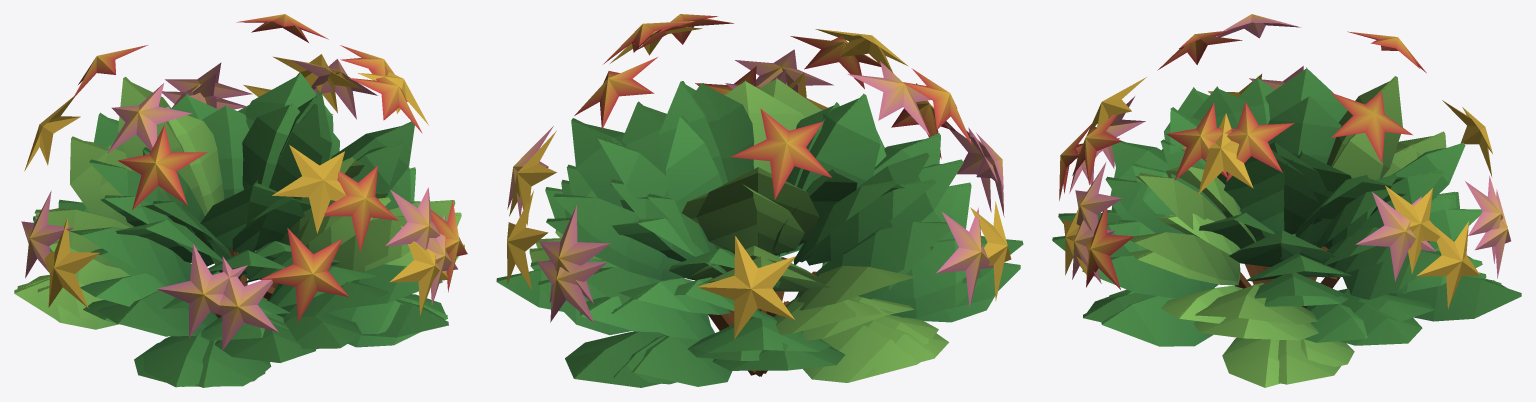
Rendered from flower_shrubs.glb.
3 renders of one model, left to right at view 1: azimuth 30°, elevation 25°; view 2: azimuth 150°, elevation 25°; view 3: azimuth 270°, elevation 25°, orthographic. The views are drawn at different scales.
Visible parts, largest first — view 1: flower_shrubs_1, flower_shrubs_2, flower_shrubs_0; view 2: flower_shrubs_1, flower_shrubs_0, flower_shrubs_2; view 3: flower_shrubs_1, flower_shrubs_2, flower_shrubs_0.
Boxes of the visible parts, x1=… form: flower_shrubs_1: x1=17, y1=59, x2=461, y2=386; flower_shrubs_2: x1=14, y1=54, x2=464, y2=387; flower_shrubs_0: x1=34, y1=14, x2=467, y2=387; flower_shrubs_1: x1=496, y1=49, x2=1004, y2=384; flower_shrubs_0: x1=529, y1=14, x2=1020, y2=386; flower_shrubs_2: x1=507, y1=21, x2=1023, y2=387; flower_shrubs_1: x1=1058, y1=14, x2=1510, y2=369; flower_shrubs_2: x1=1052, y1=74, x2=1521, y2=387; flower_shrubs_0: x1=1059, y1=30, x2=1486, y2=384.
Bounding box in the file's own units: 1.25 × 0.83 × 1.24.
